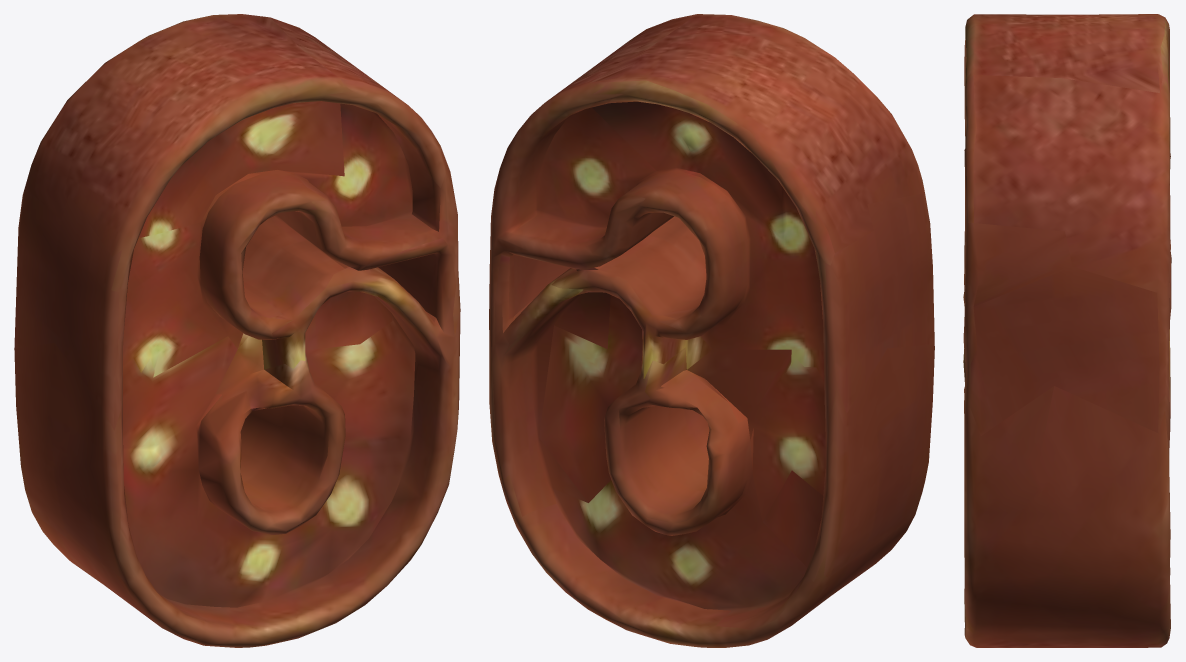
Rendered from digit_6_idle.glb.
3 renders of one model, left to right at view 1: azimuth 30°, elevation 25°; view 2: azimuth 150°, elevation 25°; view 3: azimuth 270°, elevation 25°, orthographic. The views are drawn at different scales.
Parts seen in each view (by area): view 1: tmp_digits_4_9_signs_02; view 2: tmp_digits_4_9_signs_02; view 3: tmp_digits_4_9_signs_02.
Boxes of the visible parts, <box> form: tmp_digits_4_9_signs_02: <box>14,14,460,647</box>; tmp_digits_4_9_signs_02: <box>489,14,934,647</box>; tmp_digits_4_9_signs_02: <box>963,14,1171,647</box>.
Bounding box in the file's own units: 0.6683 × 0.9953 × 0.3195.
Materials: 1 (1 with a texture image).
